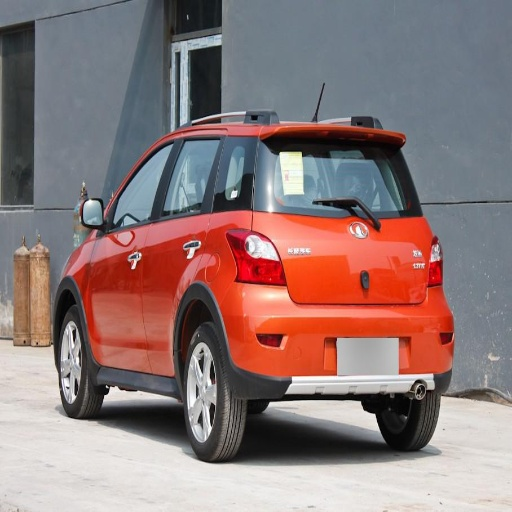back_bumper: (220, 282, 450, 397)
back_glass: (254, 135, 412, 215)
back_left_door: (143, 133, 220, 372)
trunk: (253, 214, 431, 337)
